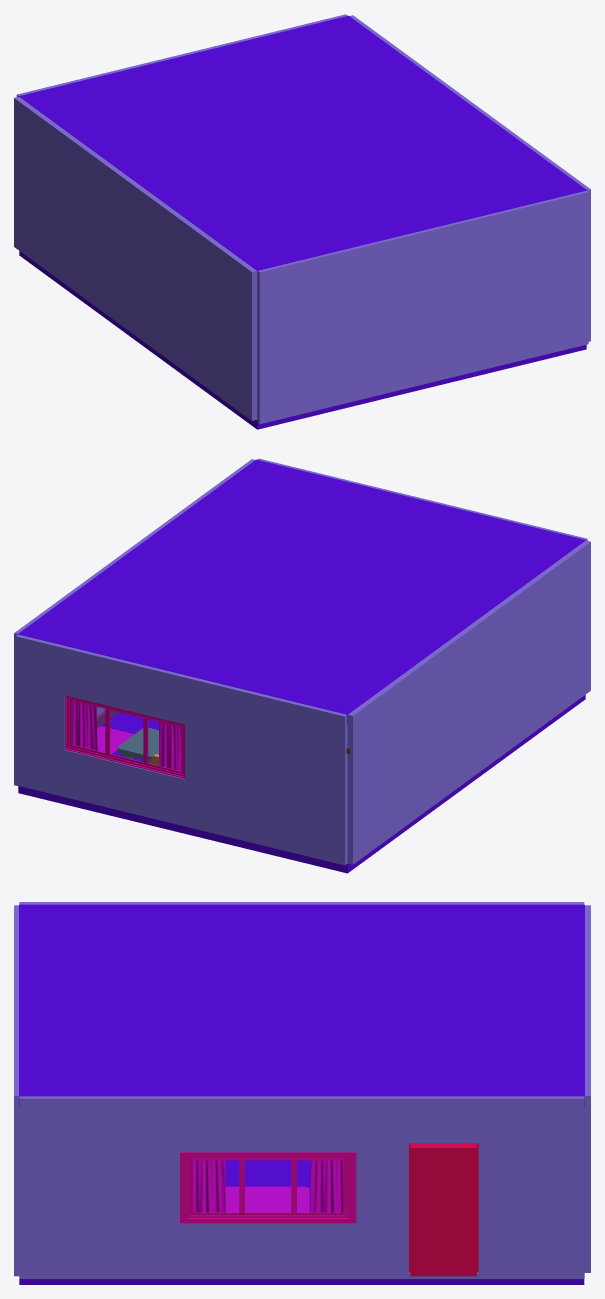
The picture shows the model from 3 angles, top to bottom: view 1: azimuth 30°, elevation 25°; view 2: azimuth 150°, elevation 25°; view 3: azimuth 270°, elevation 25°; orthographic projection. The views are drawn at different scales.
Parts seen in each view (by area): view 1: walls.003, ground.003; view 2: walls.003, ground.003, window.008, curtain.002, table.003, tapis porte.001; view 3: ground.003, walls.003, noor.003, window.008, curtain.002, tapis rectangles.
Part boxes in pixels (<box>): walls.003: <box>14,14,590,424</box>; ground.003: <box>19,15,586,429</box>; walls.003: <box>14,458,590,865</box>; ground.003: <box>18,459,585,873</box>; window.008: <box>65,695,184,778</box>; curtain.002: <box>72,701,181,770</box>; table.003: <box>117,727,158,763</box>; tapis porte.001: <box>97,726,134,754</box>; ground.003: <box>19,904,584,1284</box>; walls.003: <box>14,902,590,1278</box>; noor.003: <box>409,1143,478,1276</box>; window.008: <box>180,1152,356,1223</box>; curtain.002: <box>193,1160,343,1212</box>; tapis rectangles: <box>225,1186,309,1212</box>.
Size of the model in its own units: 485 by 214 by 591.
